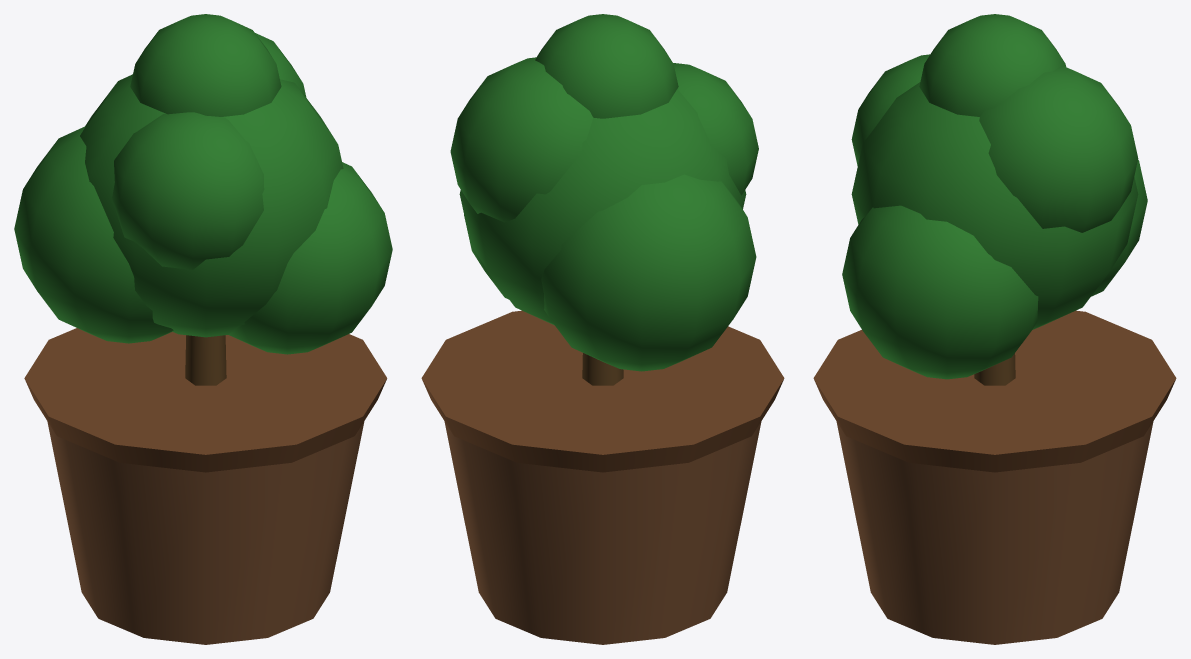
File: potted-plant.glb
3 views of the same model, side by side, from view 1: azimuth 30°, elevation 25°; view 2: azimuth 150°, elevation 25°; view 3: azimuth 270°, elevation 25° (orthographic).
Size of the model in its own units: 0.38 by 0.66 by 0.38.
